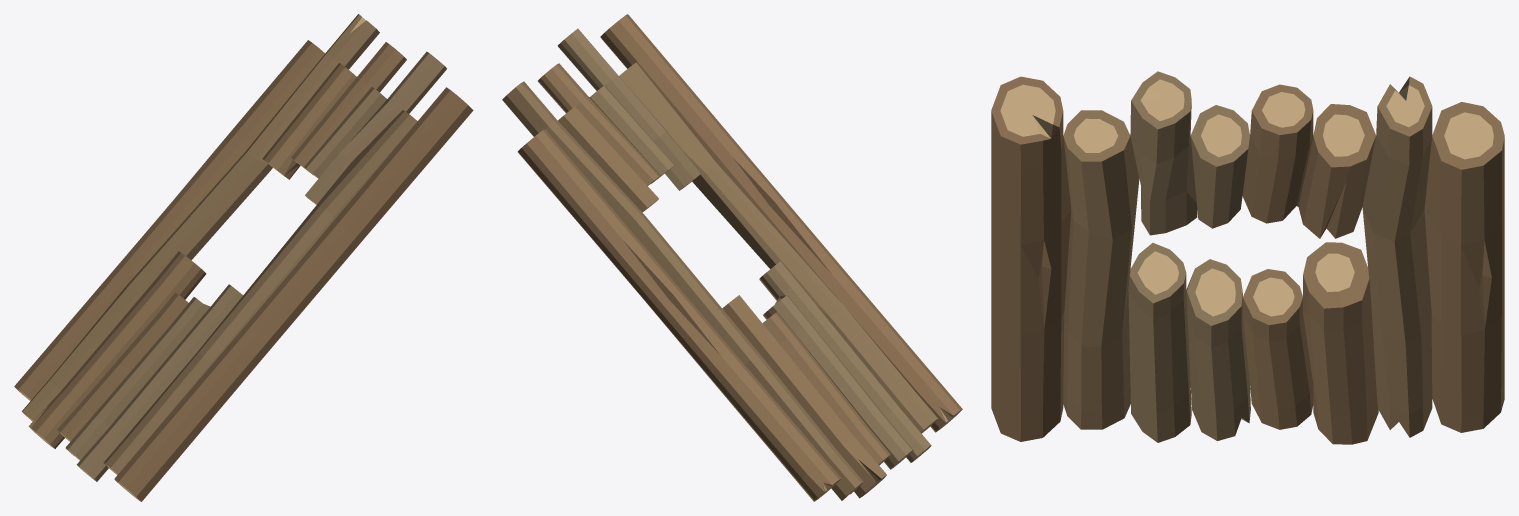
File: rpgpp_ag_roof_01_6x3x3_half_chimney_01.fbx
3 views of the same model, side by side, from view 1: azimuth 30°, elevation 25°; view 2: azimuth 150°, elevation 25°; view 3: azimuth 270°, elevation 25° (orthographic). The views are drawn at different scales.
Parts seen in each view (by area): view 1: rpgpp_ag_roof_01c_6x3x3_half_chimney_01; view 2: rpgpp_ag_roof_01c_6x3x3_half_chimney_01; view 3: rpgpp_ag_roof_01c_6x3x3_half_chimney_01.
Boxes of the visible parts, x1,y1,x2,y2 form: rpgpp_ag_roof_01c_6x3x3_half_chimney_01: (14, 14, 473, 501); rpgpp_ag_roof_01c_6x3x3_half_chimney_01: (502, 14, 962, 501); rpgpp_ag_roof_01c_6x3x3_half_chimney_01: (991, 71, 1504, 444).
Size of the model in its own units: 4.96 by 4.49 by 3.
